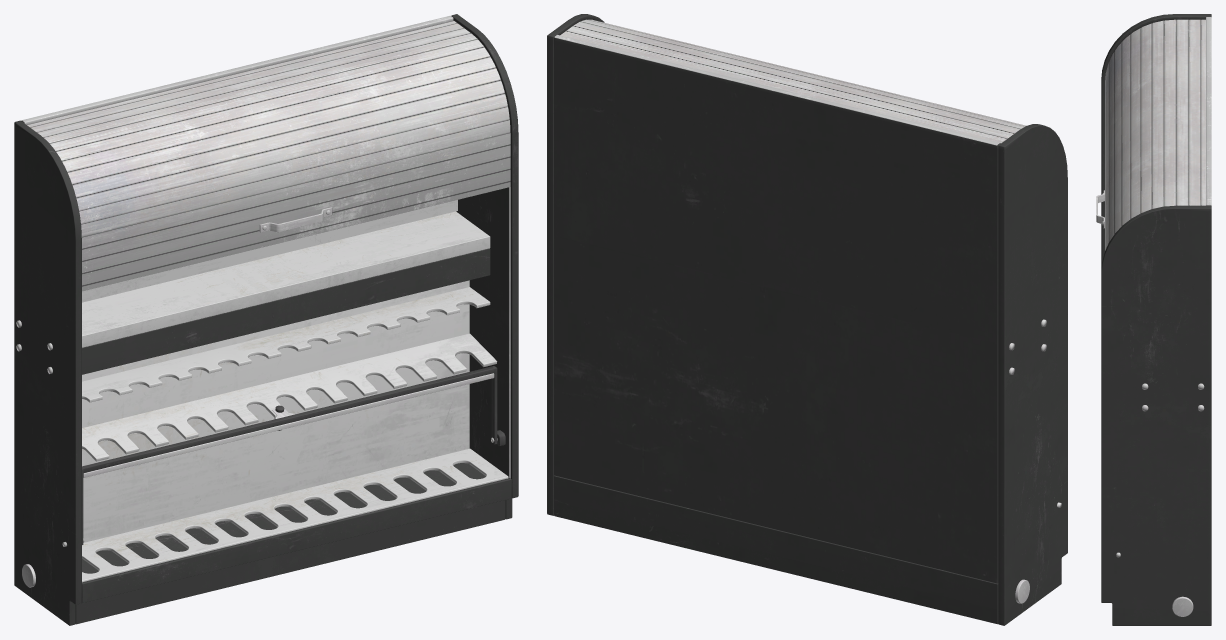
The model's file is SM_Gun_Display_01b.glb.
3 renders of one model, left to right at view 1: azimuth 30°, elevation 25°; view 2: azimuth 150°, elevation 25°; view 3: azimuth 270°, elevation 25°, orthographic. The views are drawn at different scales.
Visible parts, largest first — view 1: SM_Gun_Display_01b; view 2: SM_Gun_Display_01b; view 3: SM_Gun_Display_01b.
Boxes of the visible parts, x1,y1,x2,y2 form: SM_Gun_Display_01b: [14, 14, 518, 625]; SM_Gun_Display_01b: [547, 14, 1067, 625]; SM_Gun_Display_01b: [1096, 14, 1211, 625].
Bounding box in the file's own units: 2.53 × 2.5 × 0.6271.
1 material, 1 textured.
